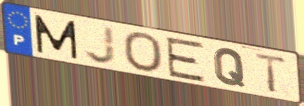E: (164, 36, 207, 84)
J: (83, 24, 118, 66)
M: (32, 13, 81, 61)
O: (122, 31, 165, 74)
Q: (212, 47, 247, 89)
T: (253, 52, 290, 95)
